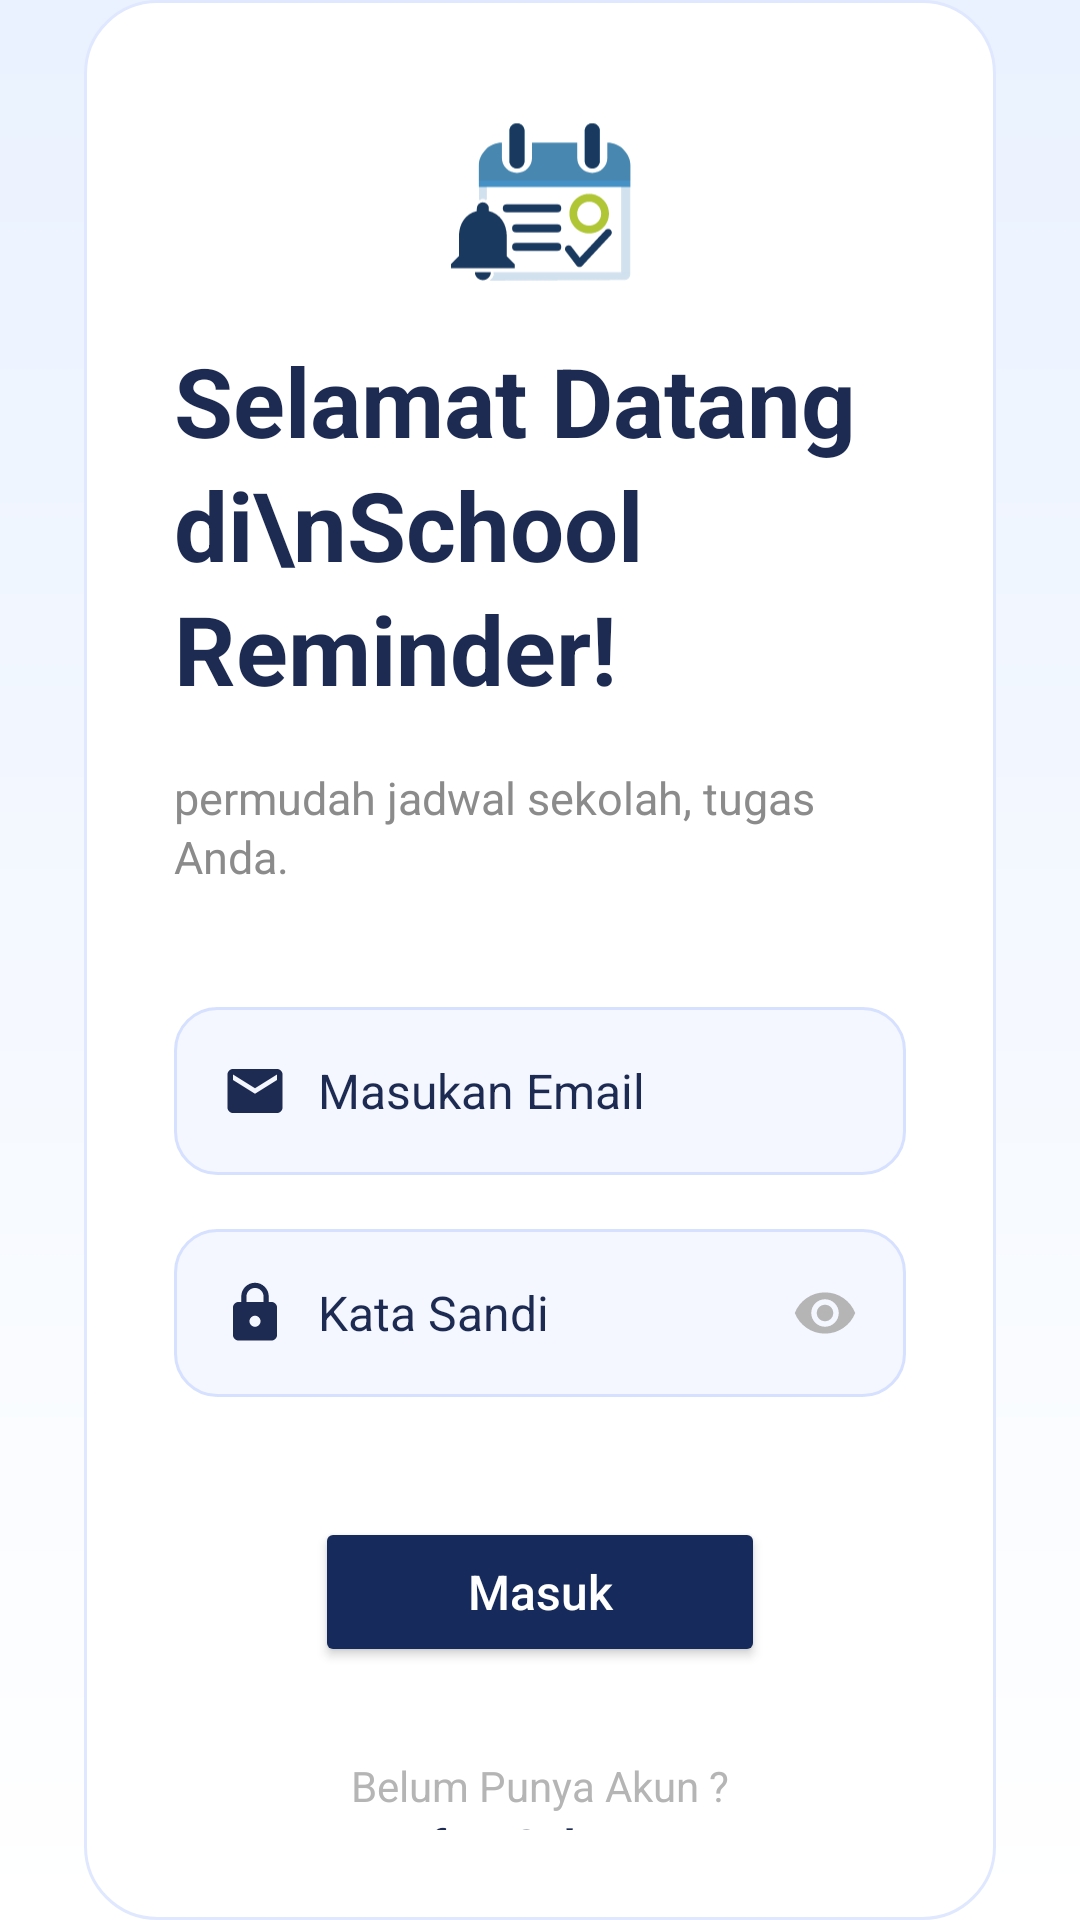

Point at icon controls on the screen. Image size 1080 x 1920, points as point (x, y).
eye: point (825, 1313)
lock: point (255, 1311)
